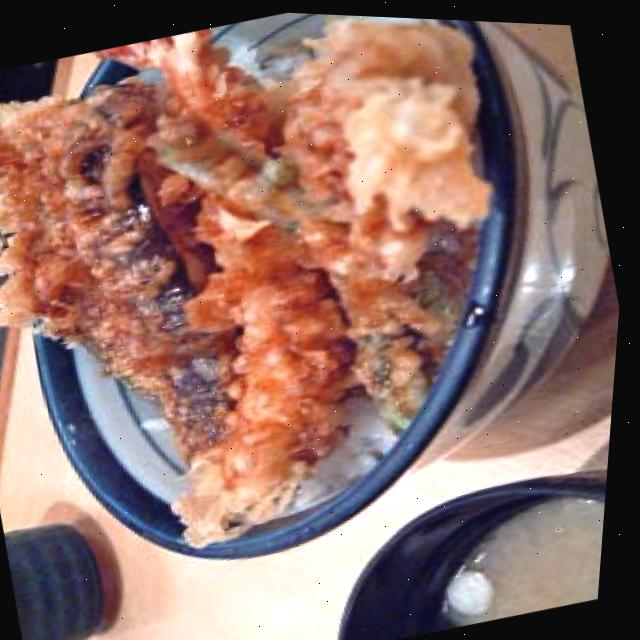汤锅炖物: (305, 449, 615, 640)
熟制海鲜: (0, 0, 626, 617)
